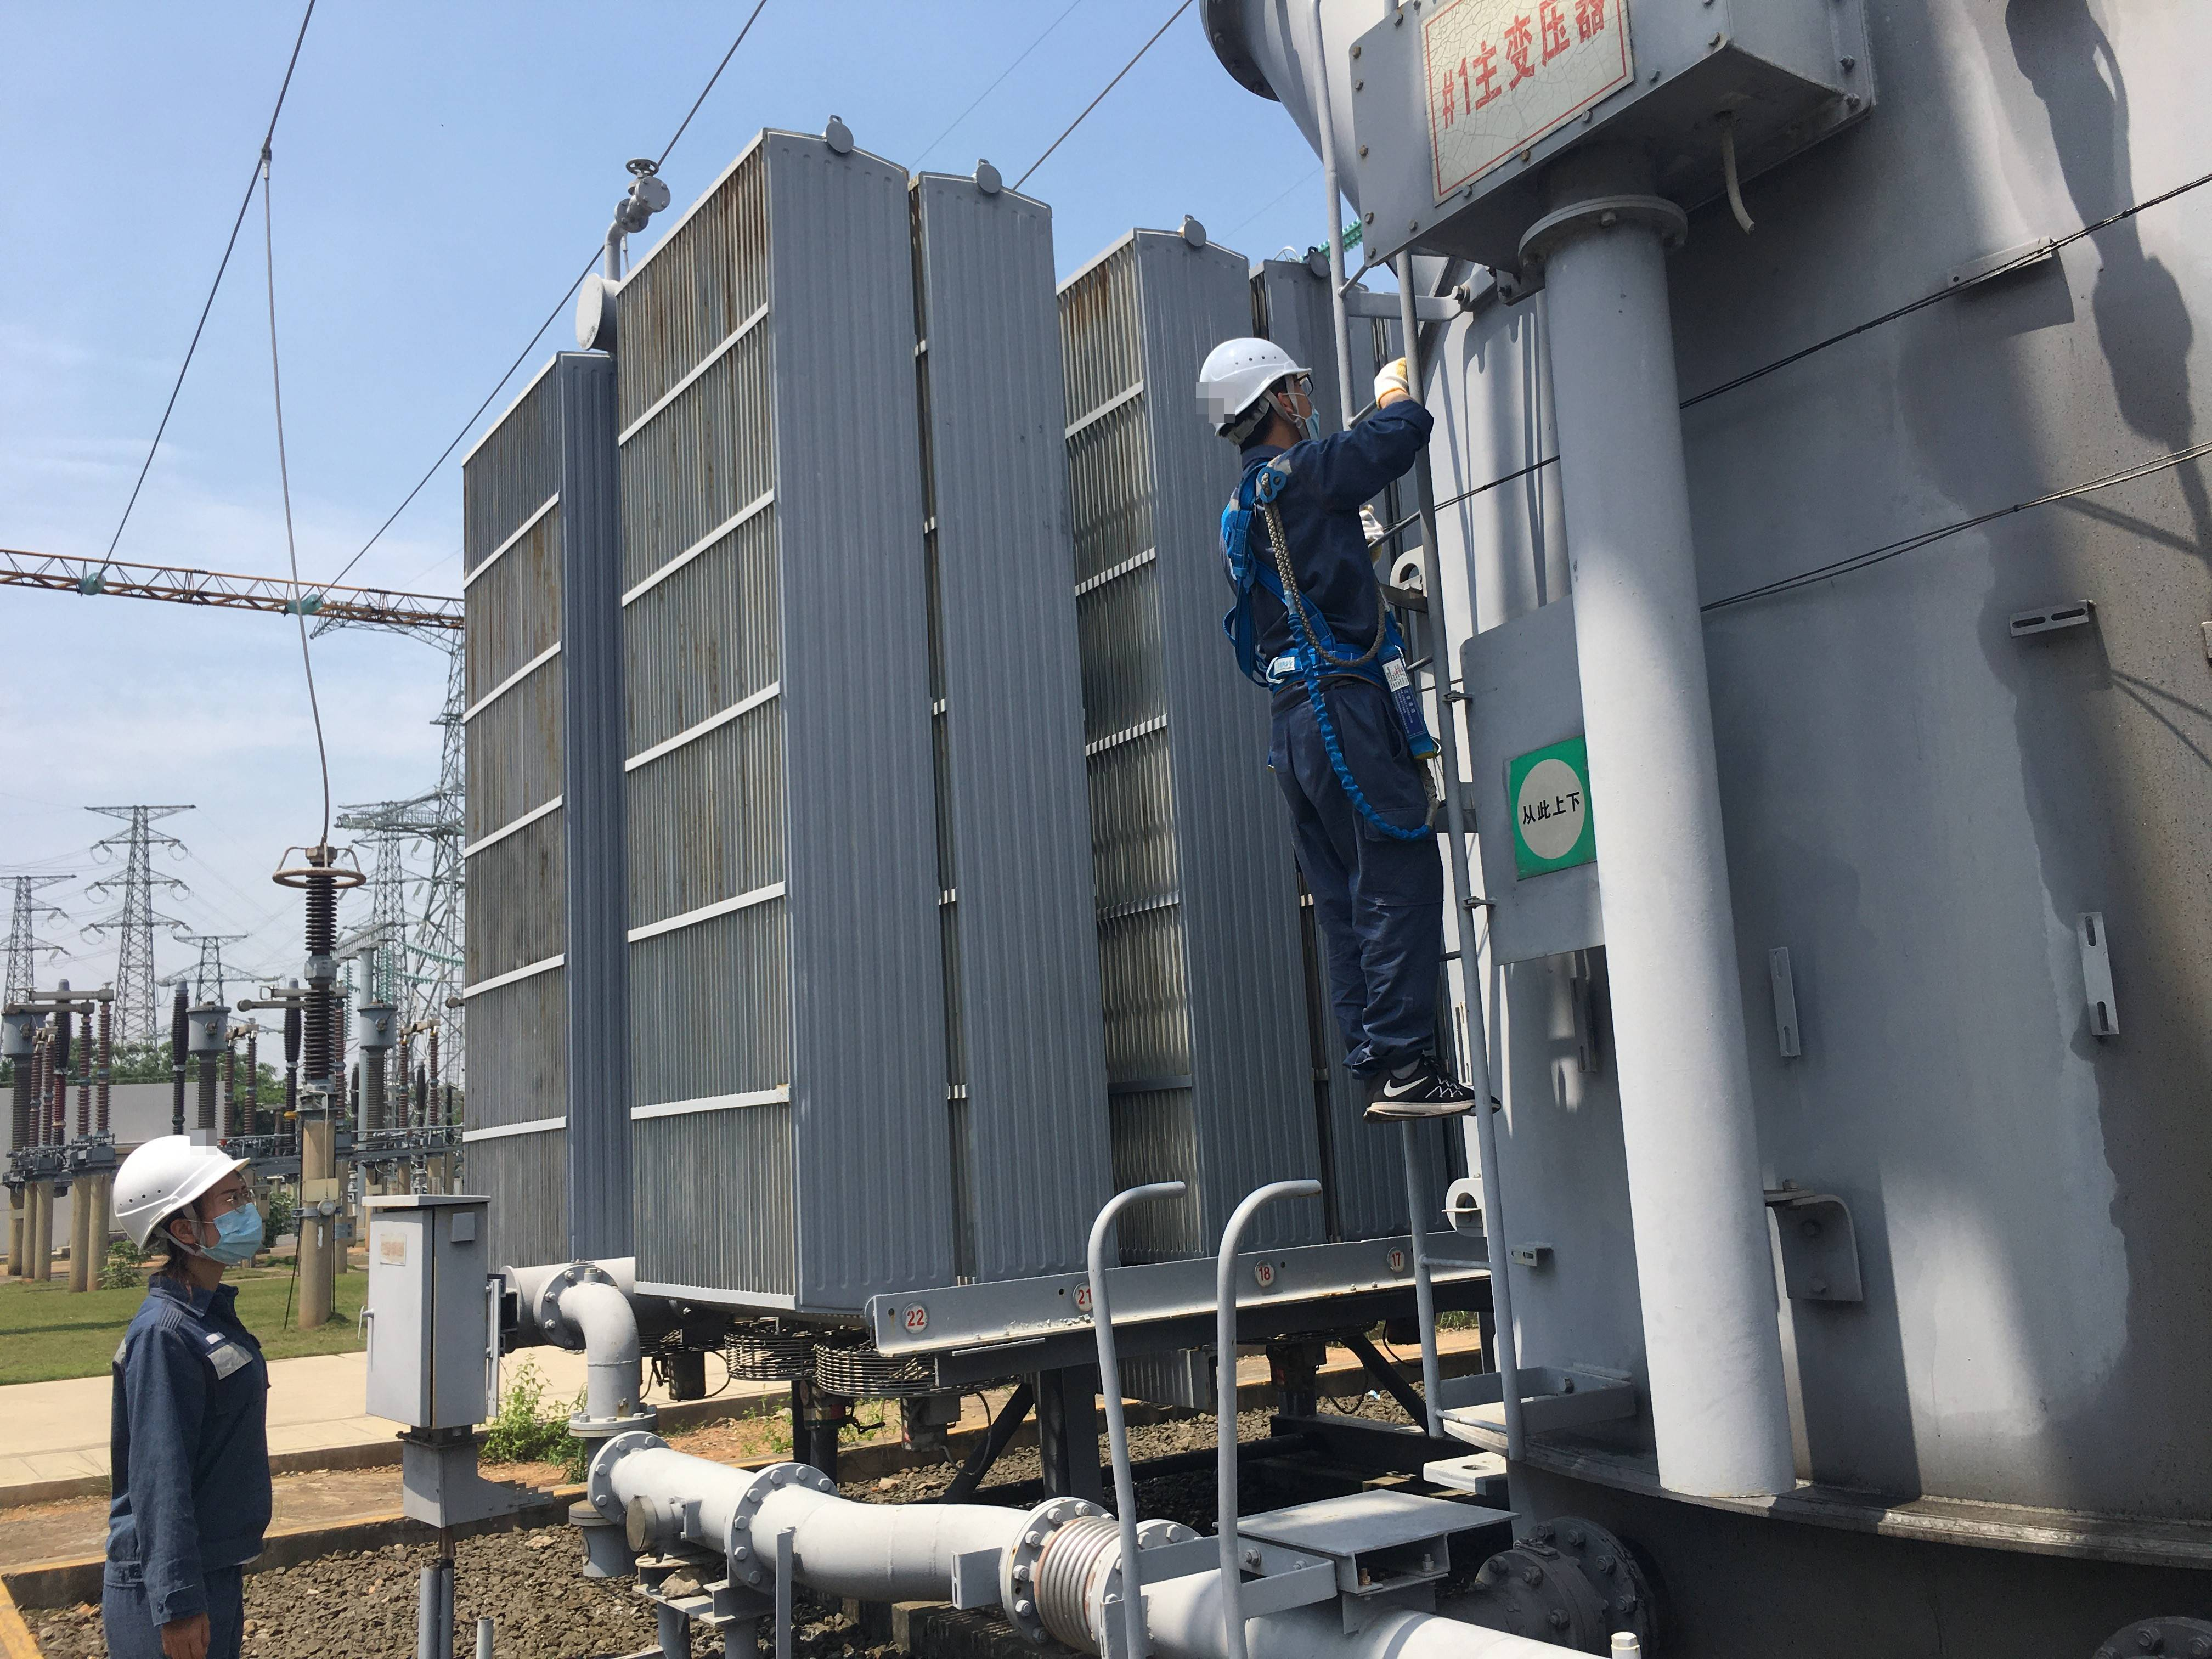downsuit: (1280, 716, 1432, 1072)
upsuit: (105, 1291, 254, 1563), (1240, 453, 1404, 683)
